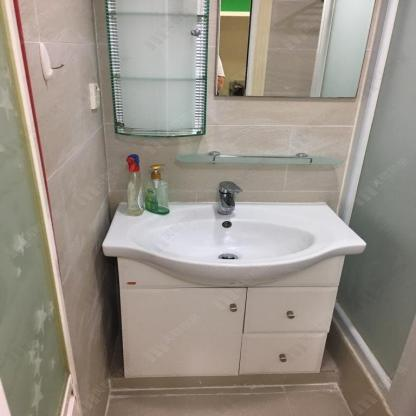Toilet Sink: (100, 201, 366, 286)
